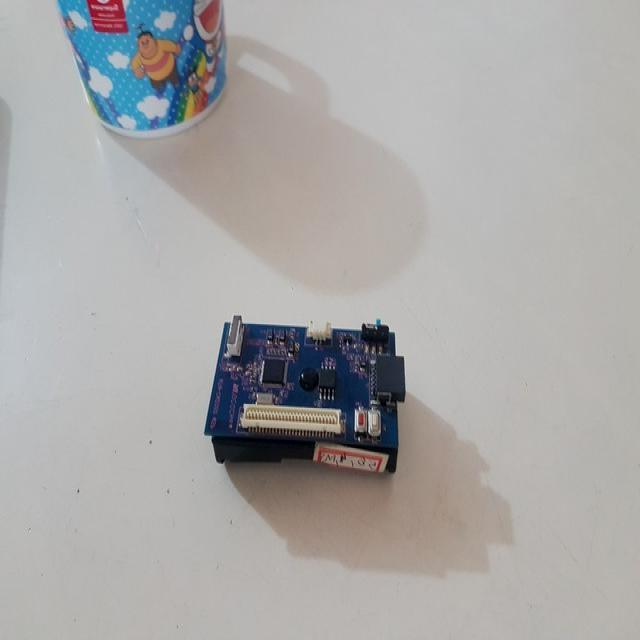TelosB: (206, 316, 406, 474)
